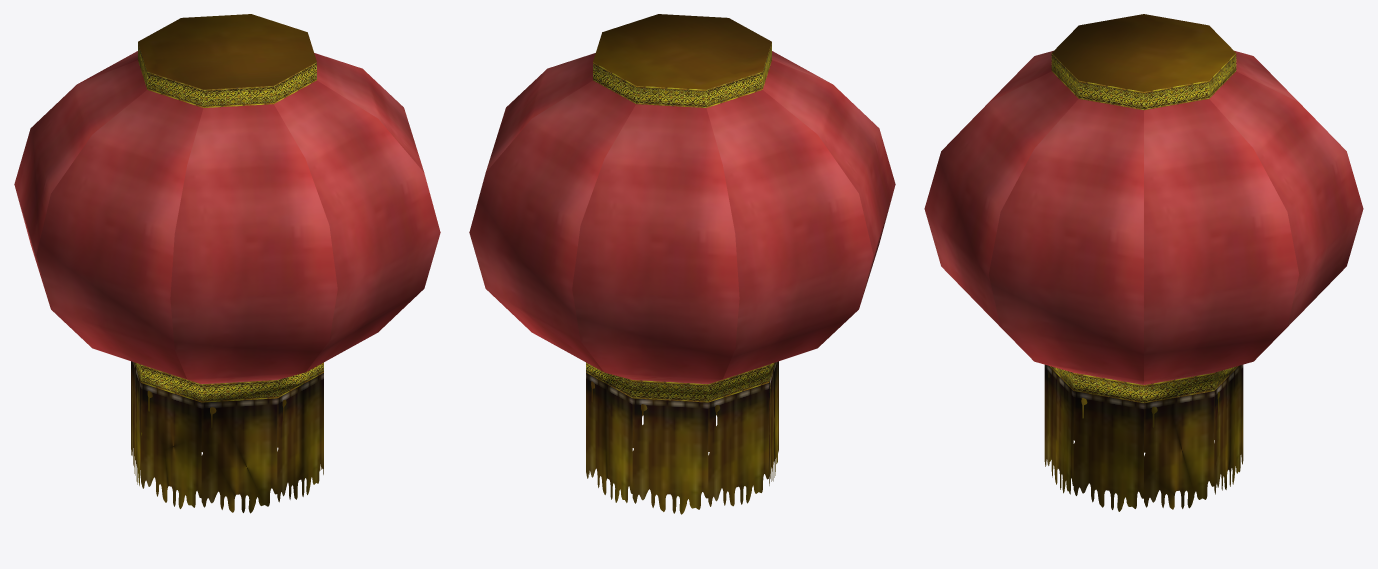
The model's file is GS_VOB_LITTLELANTERN_01.glb.
3 renders of one model, left to right at view 1: azimuth 30°, elevation 25°; view 2: azimuth 150°, elevation 25°; view 3: azimuth 270°, elevation 25°, orthographic.
Parts seen in each view (by area): view 1: Mesh; view 2: Mesh; view 3: Mesh.
Part boxes in pixels (x1,y1,x2,y2): Mesh: (14, 14, 440, 513); Mesh: (469, 14, 895, 514); Mesh: (924, 14, 1363, 511).
Bounding box in the file's own units: 0.4777 × 0.5522 × 0.4777.
3 materials, 3 textured.
